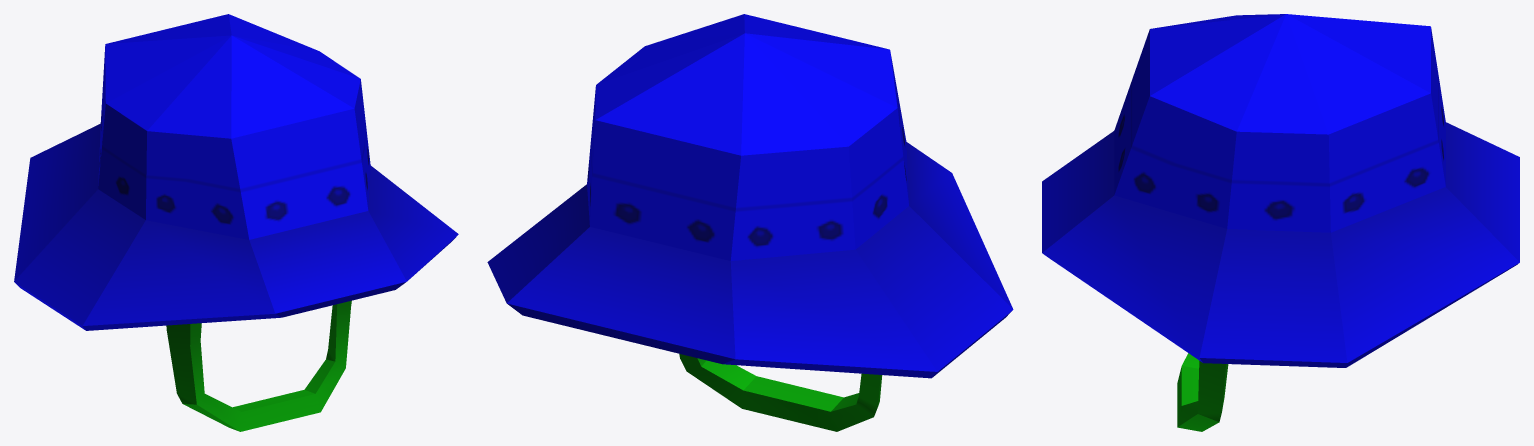
3 views of the same model, side by side, from view 1: azimuth 30°, elevation 25°; view 2: azimuth 150°, elevation 25°; view 3: azimuth 270°, elevation 25° (orthographic). The views are drawn at different scales.
Parts seen in each view (by area): view 1: KettleHat_M; view 2: KettleHat_M; view 3: KettleHat_M.
Part boxes in pixels (<box>): KettleHat_M: <box>14,14,458,431</box>; KettleHat_M: <box>487,14,1013,431</box>; KettleHat_M: <box>1042,14,1519,431</box>.
Bounding box in the file's own units: 0.3765 × 0.3356 × 0.3669.
1 material, 1 textured.
